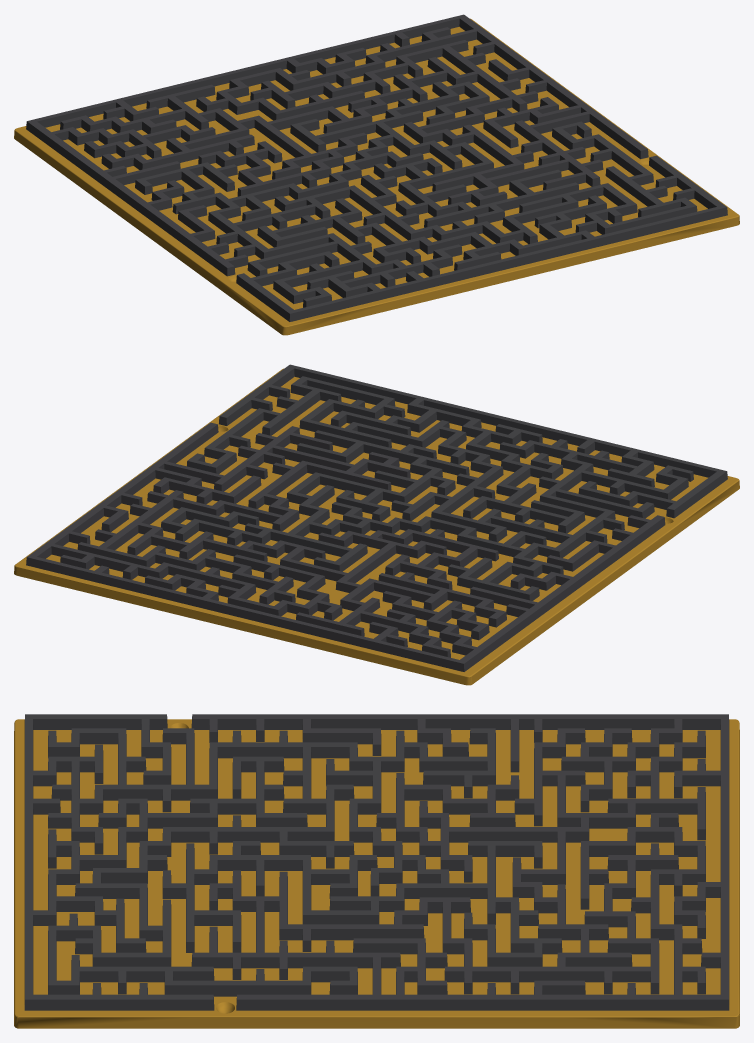
The model's file is laberinto_L2.glb.
The picture shows the model from 3 angles, top to bottom: view 1: azimuth 30°, elevation 25°; view 2: azimuth 150°, elevation 25°; view 3: azimuth 270°, elevation 25°; orthographic projection. The views are drawn at different scales.
Visible parts, largest first — view 1: Object_2, Object_3, Object_4; view 2: Object_3, Object_2, Object_4; view 3: Object_4, Object_3, Object_2.
Boxes of the visible parts, x1,y1,x2,y2 form: Object_2: (135,81,727,321); Object_3: (26,14,648,276); Object_4: (14,18,739,335); Object_3: (26,422,665,671); Object_2: (161,364,727,600); Object_4: (14,368,739,685); Object_4: (14,719,739,1028); Object_3: (191,714,729,1010); Object_2: (24,714,562,1010).
Bounding box in the file's own units: 1968 × 69.3 × 2022.
